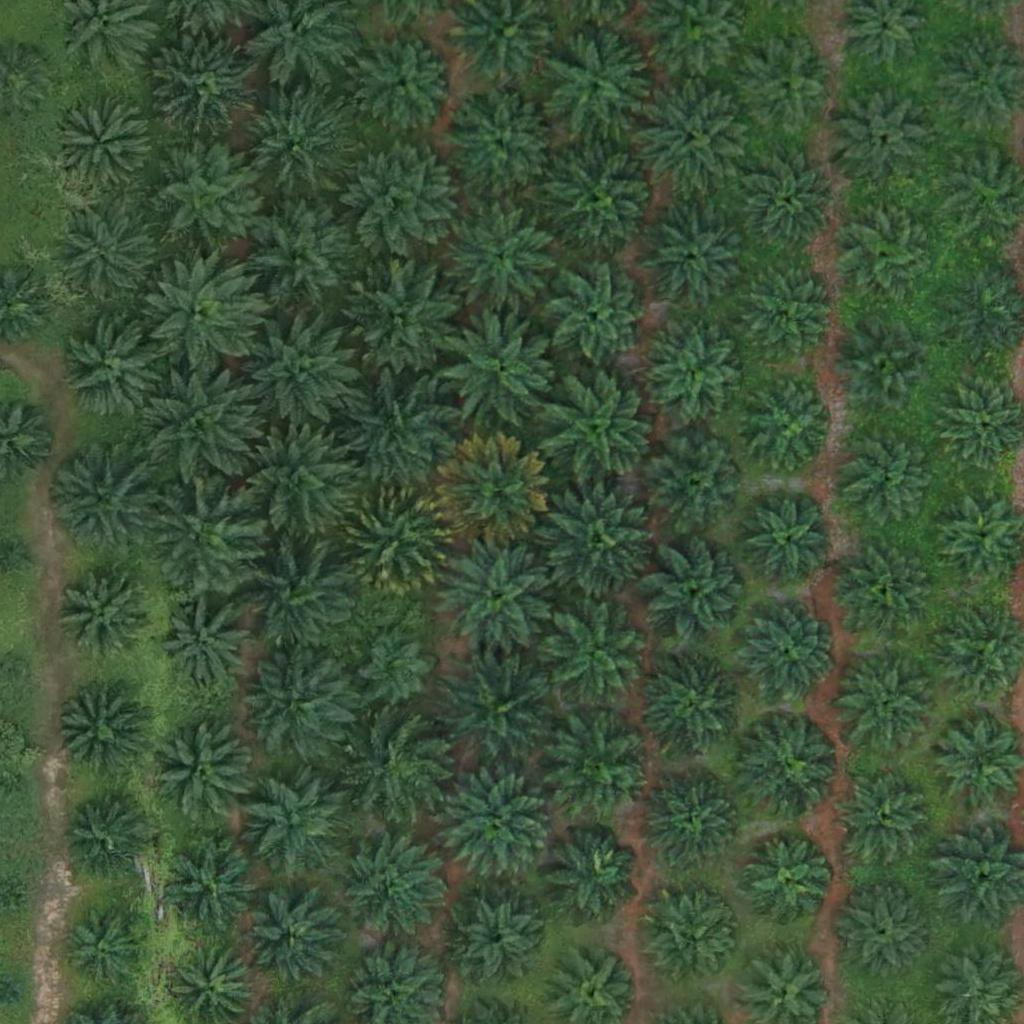Kelapa_Sawit: (439, 774, 552, 888), (46, 443, 159, 557), (151, 31, 264, 144), (238, 87, 351, 200), (246, 202, 359, 315), (346, 142, 459, 255), (349, 256, 462, 369), (348, 374, 461, 487), (539, 29, 652, 142), (637, 81, 750, 194), (640, 201, 753, 314), (541, 602, 654, 715), (437, 435, 550, 548), (339, 484, 452, 597), (439, 536, 552, 649), (436, 654, 549, 767), (146, 371, 258, 485), (240, 541, 352, 655), (244, 644, 356, 758), (149, 477, 261, 591), (146, 140, 258, 253), (145, 261, 257, 374), (248, 313, 360, 426), (446, 88, 558, 201), (446, 207, 558, 320), (443, 313, 555, 426), (546, 147, 658, 260), (547, 371, 659, 484), (540, 484, 652, 597), (237, 428, 349, 541), (52, 94, 152, 195), (357, 33, 457, 134), (547, 267, 647, 368), (739, 262, 839, 363), (840, 425, 940, 526), (837, 542, 937, 643), (836, 651, 936, 752), (835, 768, 935, 869), (833, 884, 933, 985), (736, 602, 836, 703), (741, 715, 841, 816), (646, 433, 746, 534), (644, 542, 744, 643), (642, 658, 742, 759), (644, 768, 744, 869), (552, 712, 652, 813), (243, 773, 343, 874), (152, 722, 252, 823), (160, 834, 260, 935), (62, 208, 162, 308), (64, 321, 164, 421), (735, 35, 835, 135), (833, 83, 933, 183), (541, 824, 641, 924), (348, 717, 448, 817), (341, 838, 441, 938), (64, 903, 152, 992), (840, 206, 928, 294), (843, 325, 931, 413), (743, 839, 831, 927), (449, 897, 537, 985), (61, 795, 149, 883), (652, 331, 739, 419), (747, 155, 834, 243), (743, 384, 830, 472), (746, 499, 833, 587), (649, 898, 736, 986), (250, 899, 337, 987), (162, 600, 249, 688), (62, 567, 149, 655), (55, 689, 142, 777), (357, 628, 432, 704), (6, 544, 31, 569), (2, 774, 27, 799)
